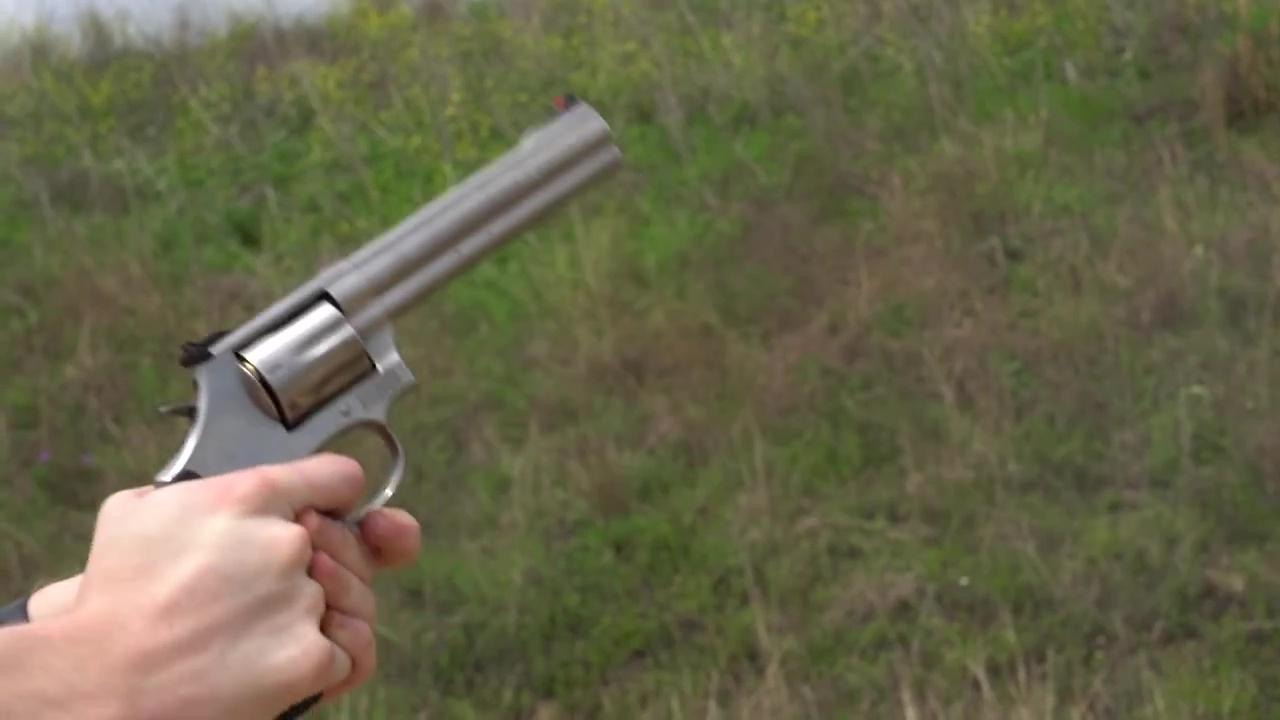weapon: (137, 79, 642, 720)
